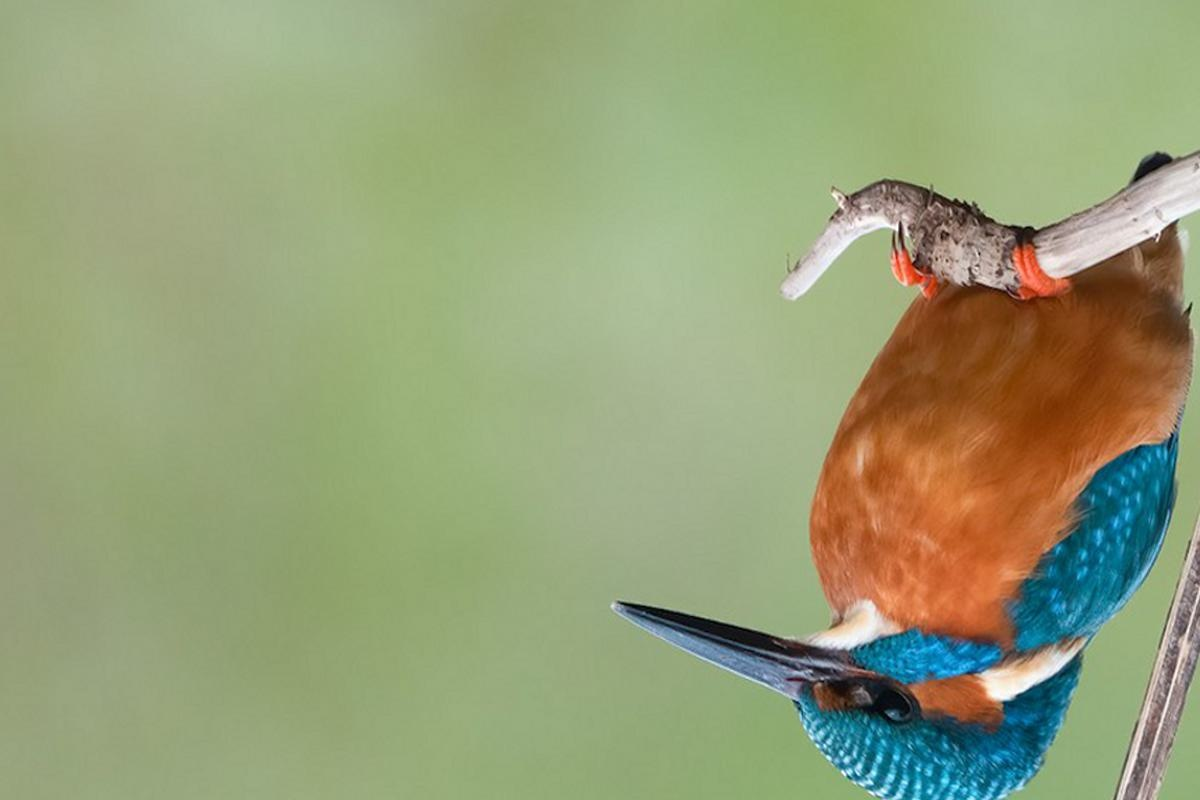kingfisher: (606, 143, 1191, 800)
